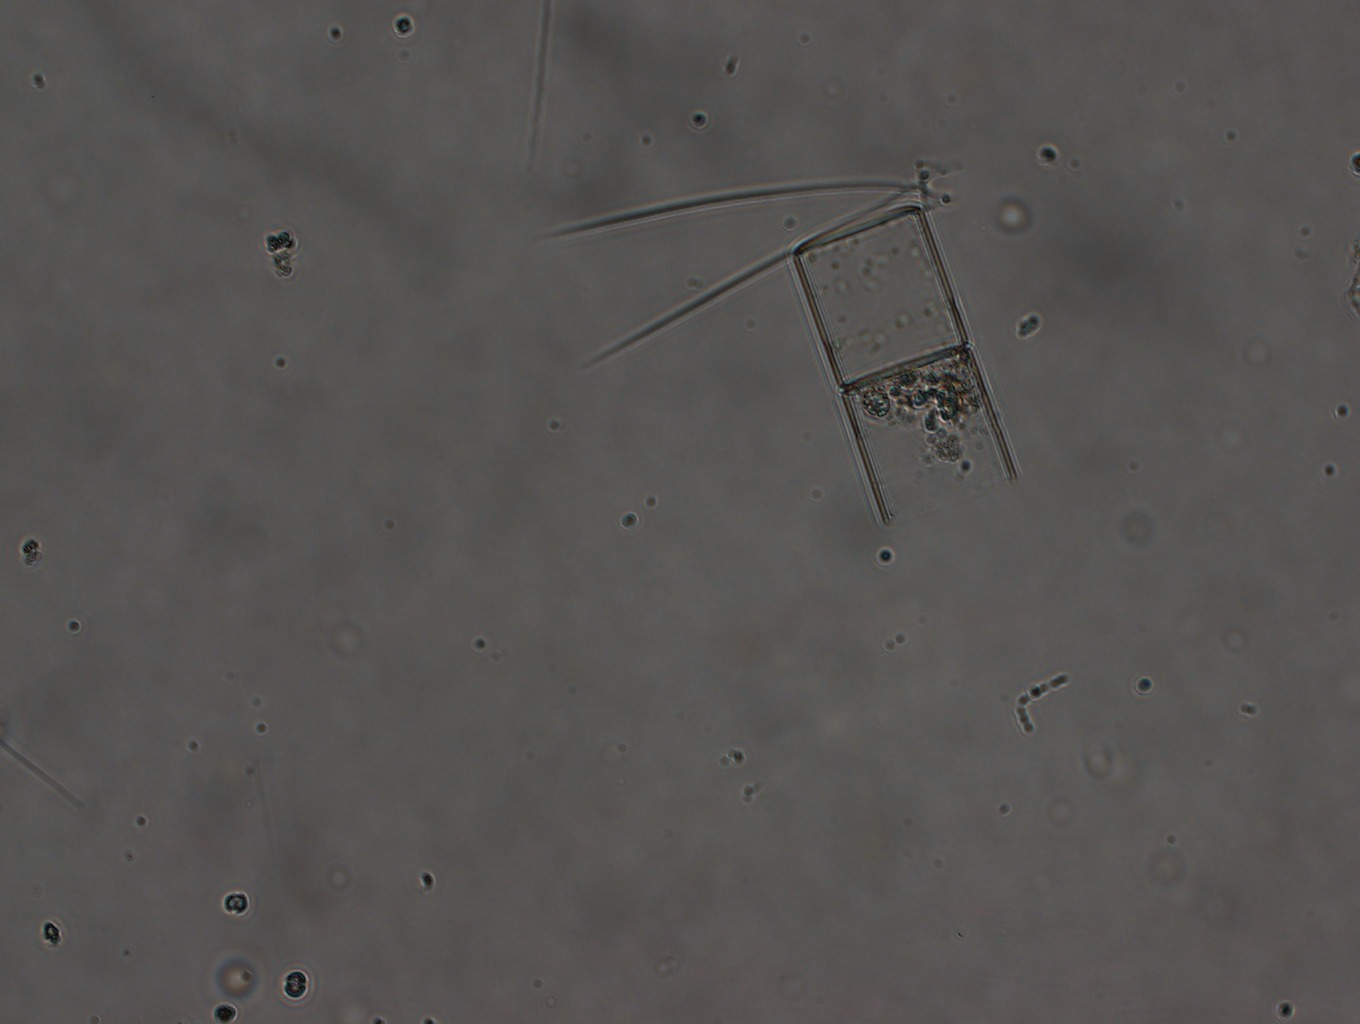guinardia flaccida: (783, 195, 1020, 525)
